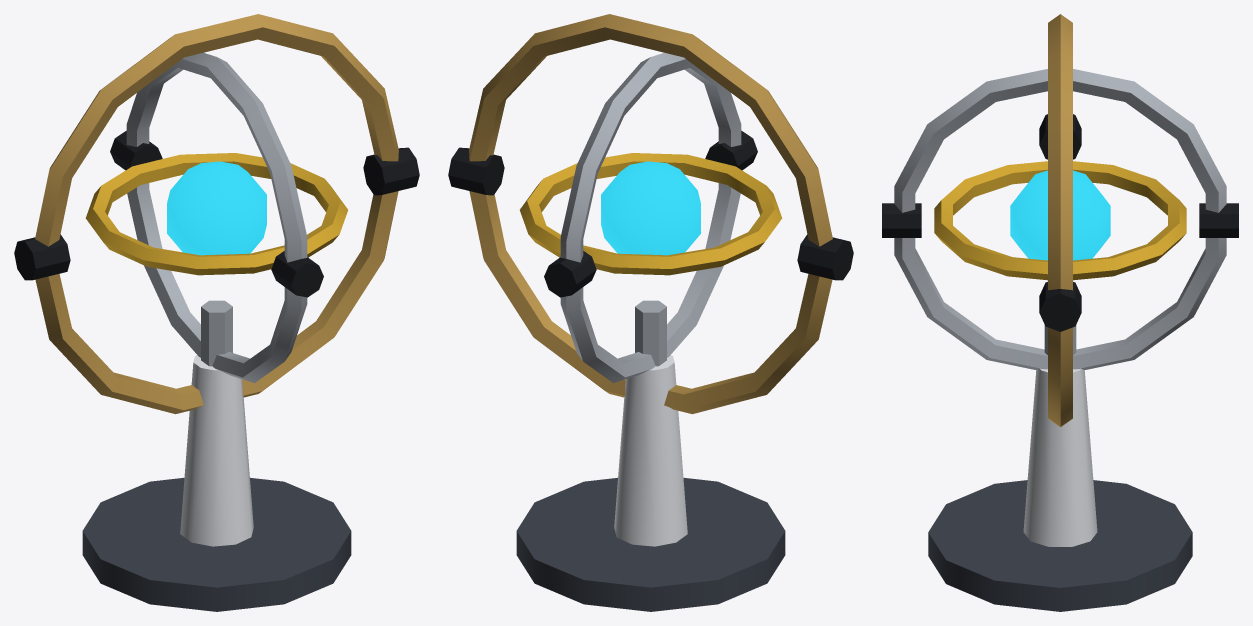
Rendered from turbine_gyroscope.glb.
3 renders of one model, left to right at view 1: azimuth 30°, elevation 25°; view 2: azimuth 150°, elevation 25°; view 3: azimuth 270°, elevation 25°, orthographic.
Parts seen in each view (by area): view 1: turbine_gyroscope; view 2: turbine_gyroscope; view 3: turbine_gyroscope.
Boxes of the visible parts, bbox=[...] form: turbine_gyroscope: bbox=[14, 14, 419, 611]; turbine_gyroscope: bbox=[448, 14, 853, 611]; turbine_gyroscope: bbox=[882, 14, 1238, 611].
Bounding box in the file's own units: 1.65 × 2.18 × 1.35.
